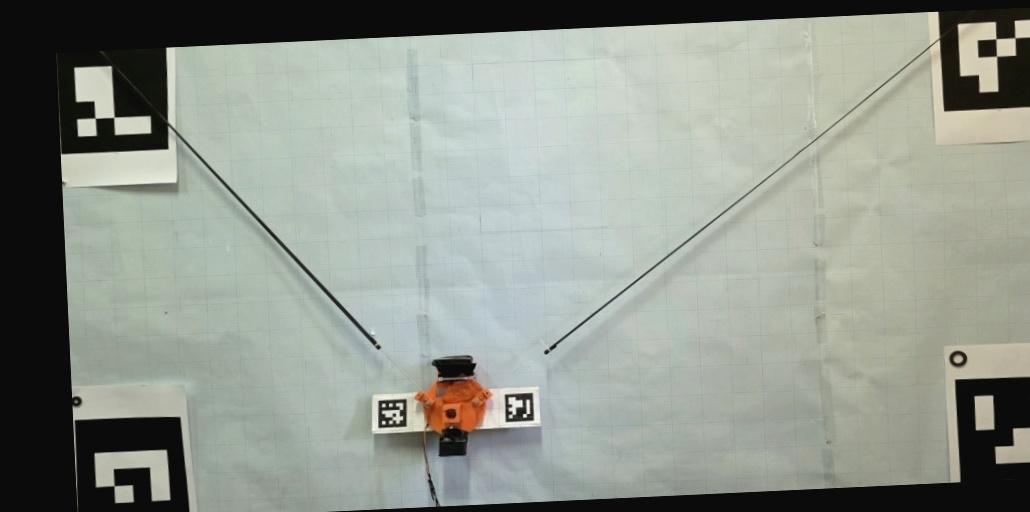robot: (414, 357, 492, 459)
